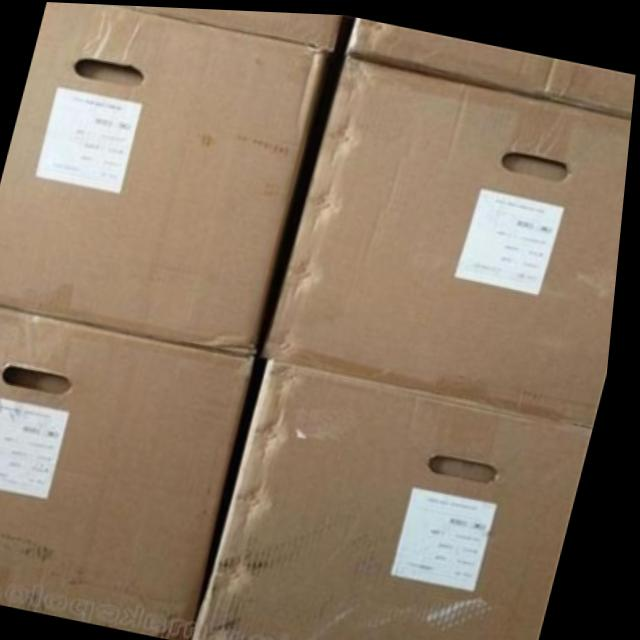box: (268, 55, 633, 425), (0, 2, 337, 355), (204, 355, 600, 640), (0, 304, 265, 638), (346, 16, 636, 112), (120, 4, 349, 51)
